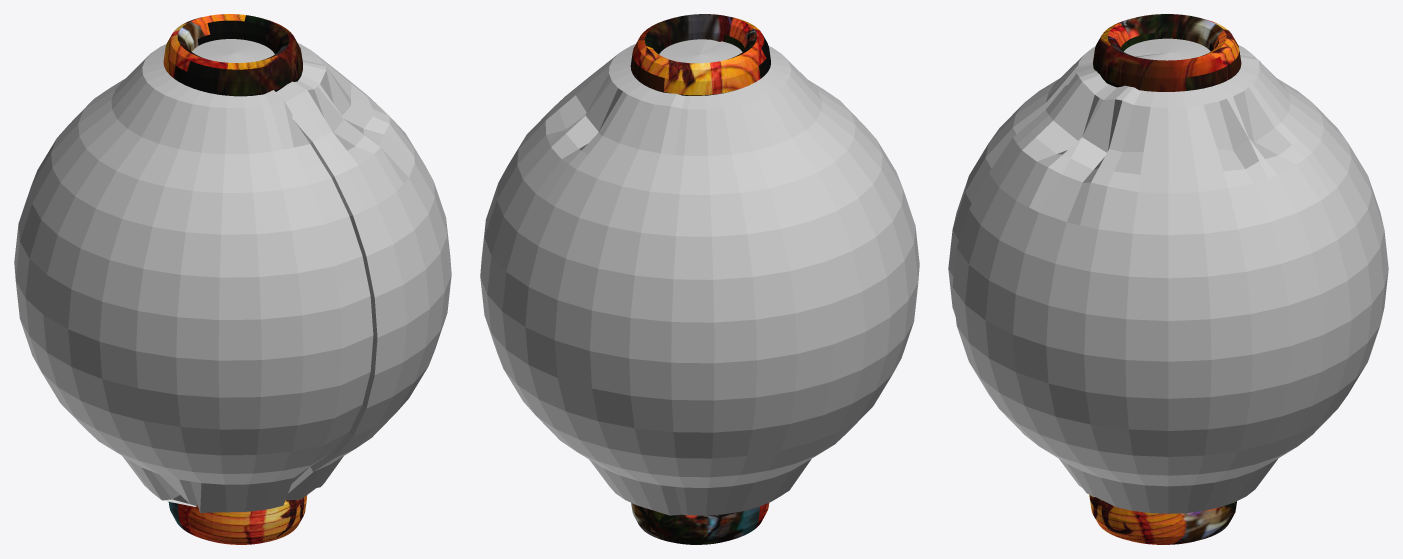
The model's file is lanternTaiwan.fbx.
3 views of the same model, side by side, from view 1: azimuth 30°, elevation 25°; view 2: azimuth 150°, elevation 25°; view 3: azimuth 270°, elevation 25° (orthographic).
Visible parts, largest first — view 1: Sphere, Torus, Torus.001; view 2: Sphere, Torus, Torus.001; view 3: Sphere, Torus, Torus.001.
Boxes of the visible parts, x1=… form: Sphere: x1=14, y1=39, x2=451, y2=512; Torus: x1=163, y1=14, x2=302, y2=96; Torus.001: x1=168, y1=495, x2=307, y2=544; Sphere: x1=480, y1=39, x2=919, y2=515; Torus: x1=630, y1=14, x2=770, y2=95; Torus.001: x1=631, y1=503, x2=769, y2=544; Sphere: x1=948, y1=38, x2=1388, y2=513; Torus: x1=1093, y1=14, x2=1241, y2=91; Torus.001: x1=1089, y1=495, x2=1236, y2=544.
Bounding box in the file's own units: 2 × 2.42 × 2.
